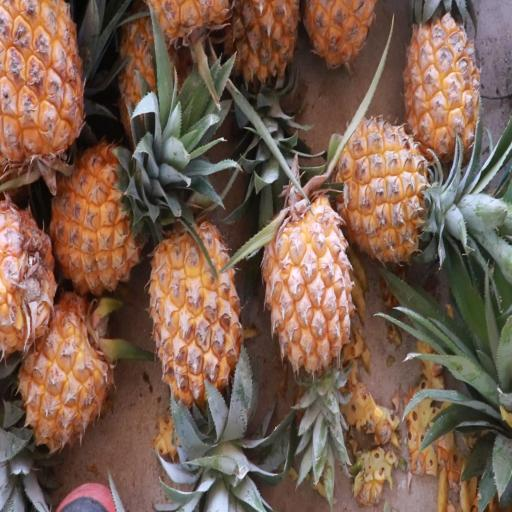Pineapple - v8 v1: (260, 182, 358, 386), (146, 215, 244, 417), (339, 104, 452, 268), (13, 281, 115, 451), (52, 134, 147, 299), (402, 0, 480, 177)
